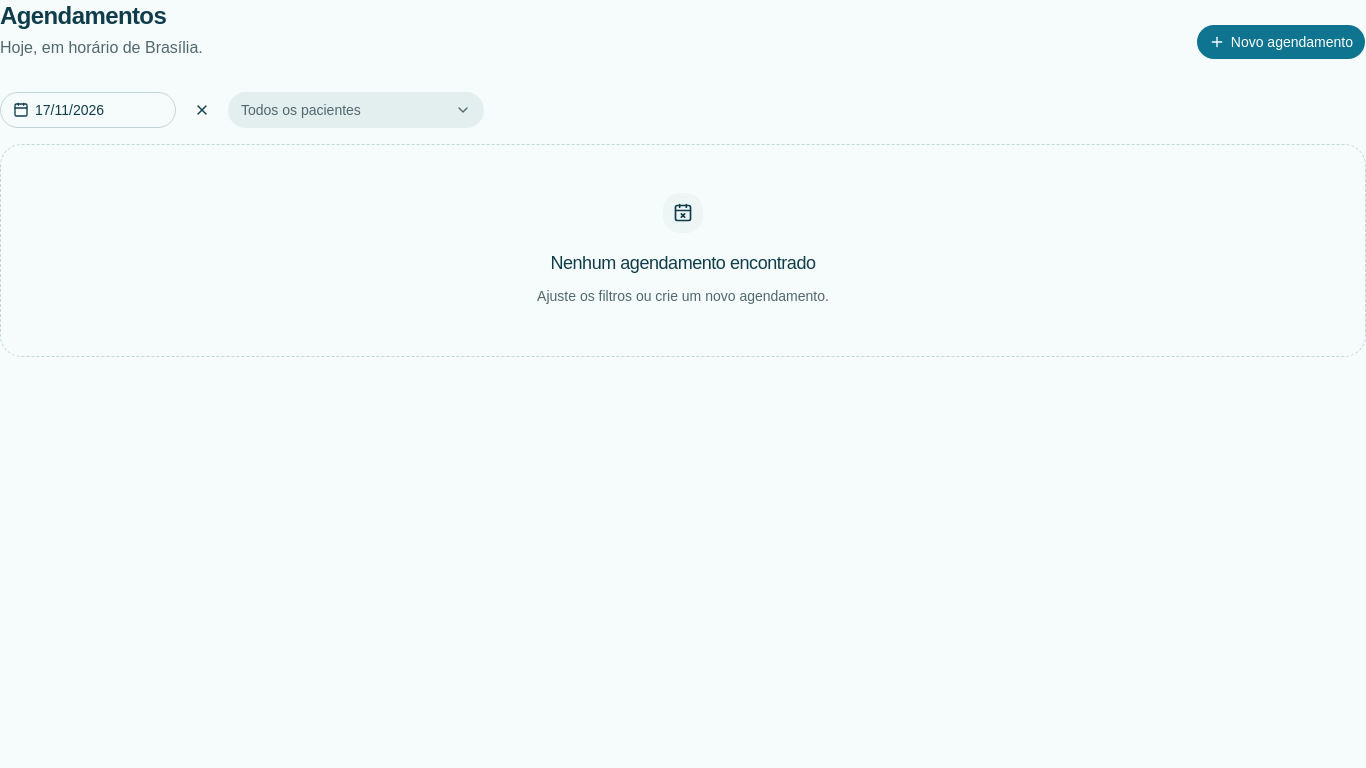
Test: AppointmentsPage › asks for every field before creating an appointment
Click the button "Novo agendamento" at (1281, 42), box [1196,24,1365,60]
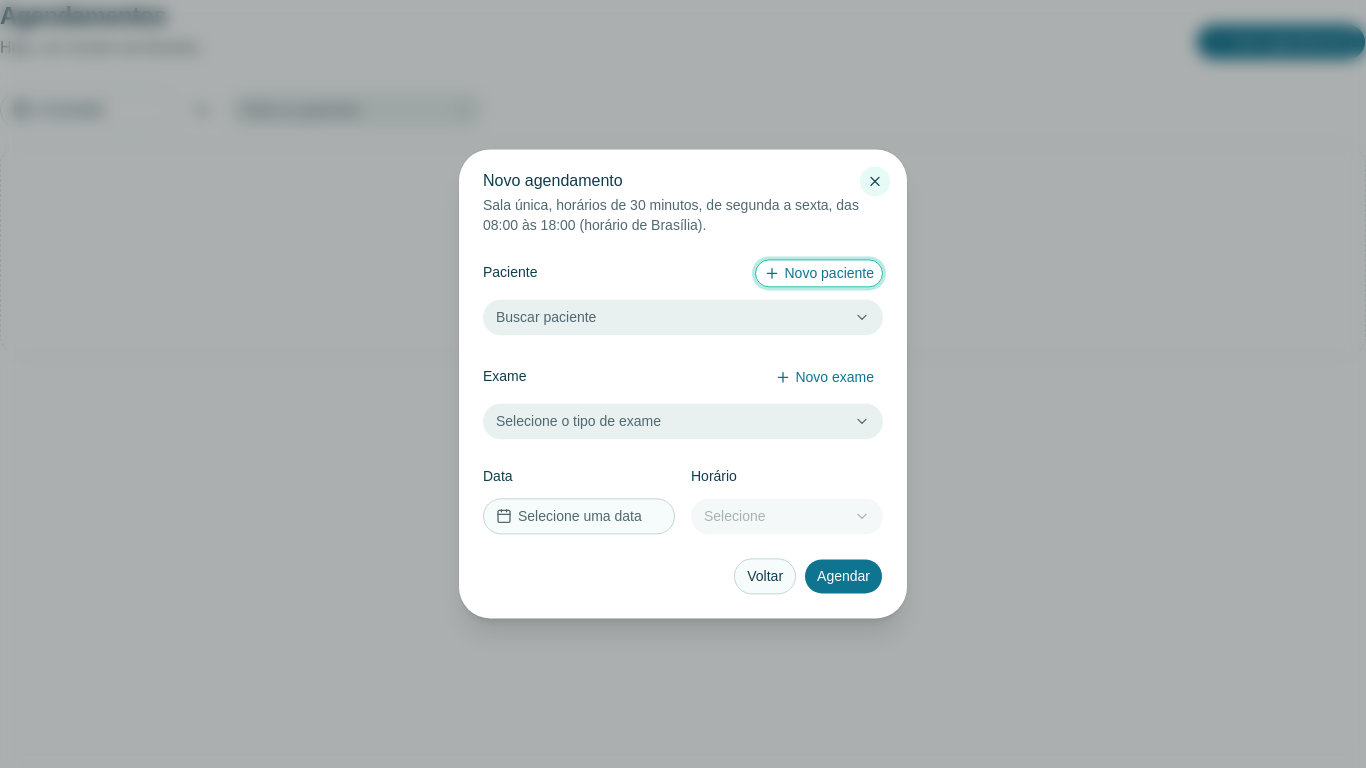
Click the button "Agendar" at (844, 577), box [804,559,883,595]
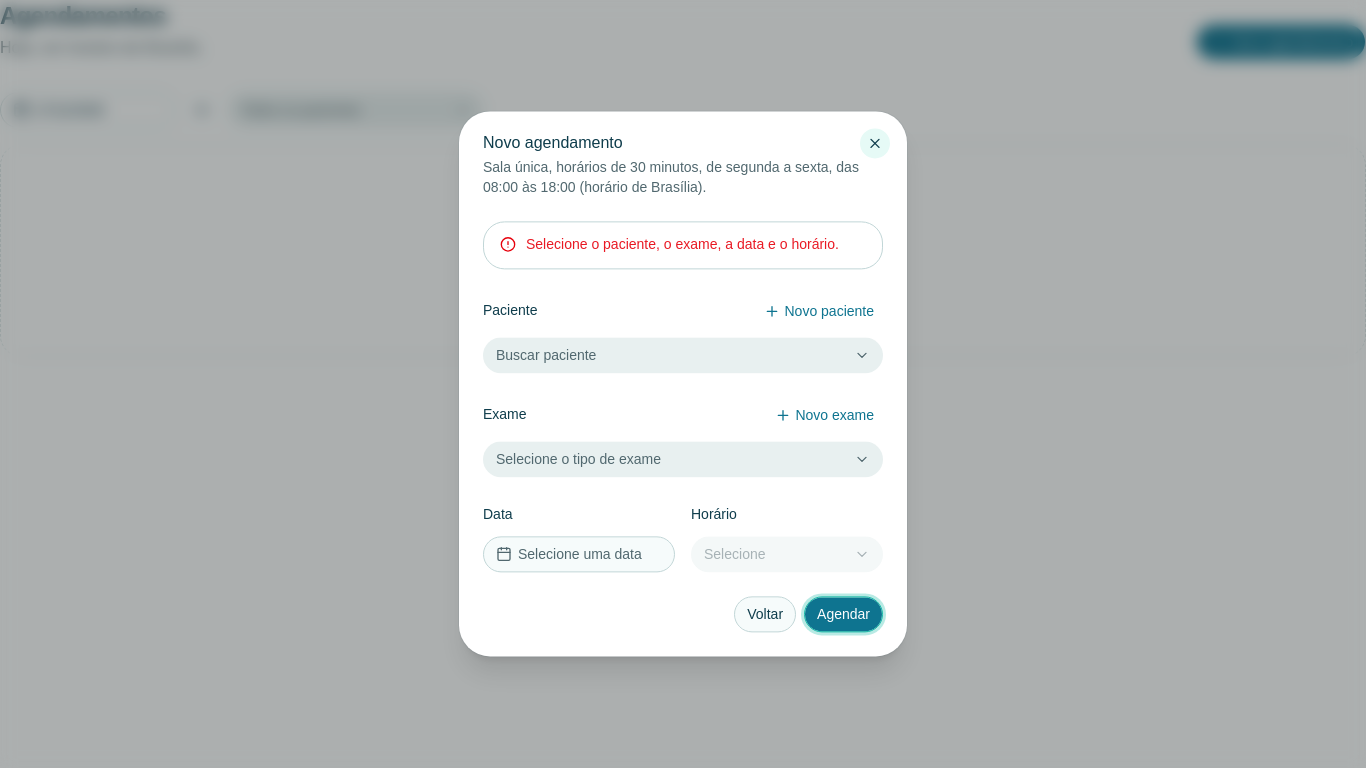
Expected: the text "Selecione o paciente, o exame, a data e o horário." is shown, [526,234,866,254]
